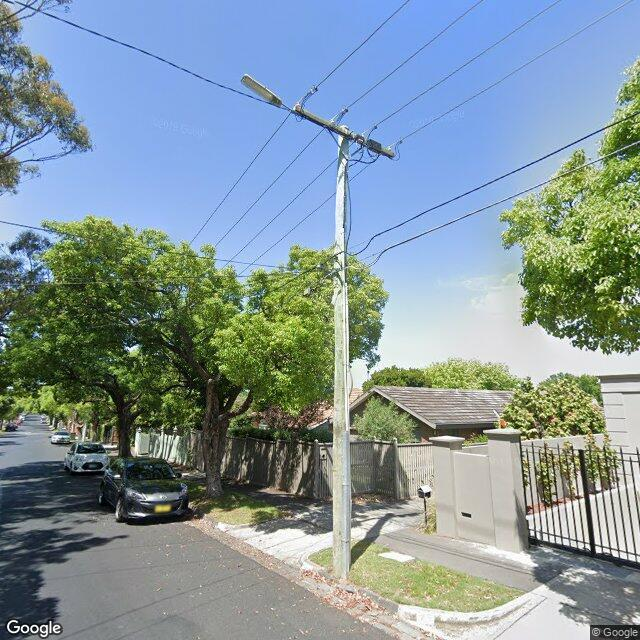crossarm: (293, 104, 395, 158)
streetlight: (240, 74, 294, 114)
timber-pole: (332, 126, 351, 577)
